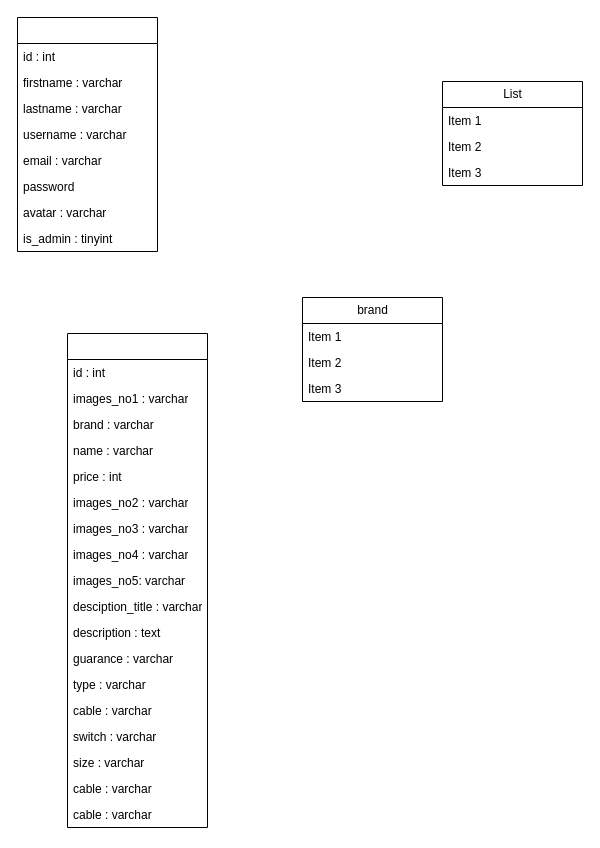
This 600x848 diagram has some shape labels left out. Here are the shapes that lost their labels. From the top down, the box of each, then its label:
(16, 16, 158, 252): users
(66, 332, 208, 828): products
